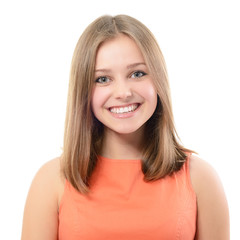teen: (58, 8, 173, 152)
